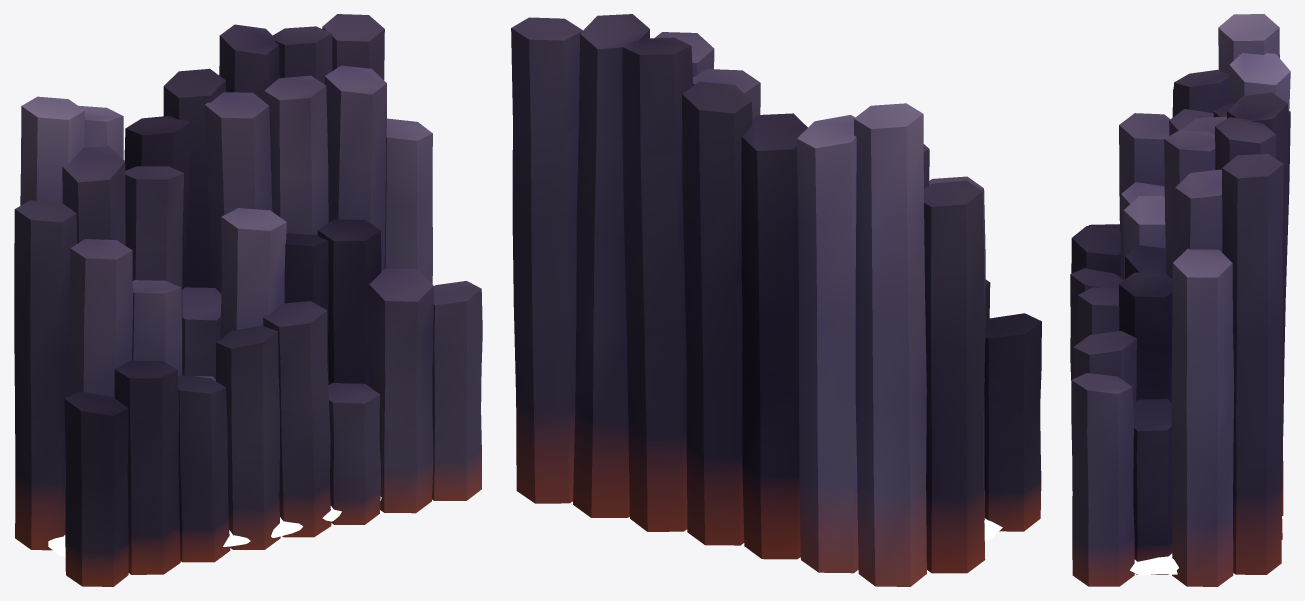
Rendered from ember_cliff_basalt_c.glb.
3 views of the same model, side by side, from view 1: azimuth 30°, elevation 25°; view 2: azimuth 150°, elevation 25°; view 3: azimuth 270°, elevation 25° (orthographic). The views are drawn at different scales.
Parts seen in each view (by area): view 1: ember_cliff_basalt_c; view 2: ember_cliff_basalt_c; view 3: ember_cliff_basalt_c.
Part boxes in pixels (x1=…): ember_cliff_basalt_c: x1=14, y1=14, x2=482, y2=586; ember_cliff_basalt_c: x1=511, y1=14, x2=1041, y2=586; ember_cliff_basalt_c: x1=1070, y1=14, x2=1290, y2=586.
Size of the model in its own units: 11.79 by 12.12 by 5.73.
